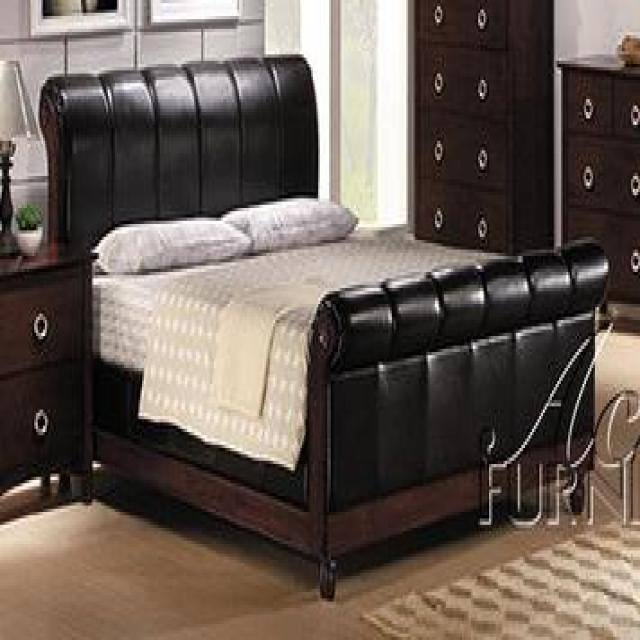bed: (38, 51, 609, 598)
